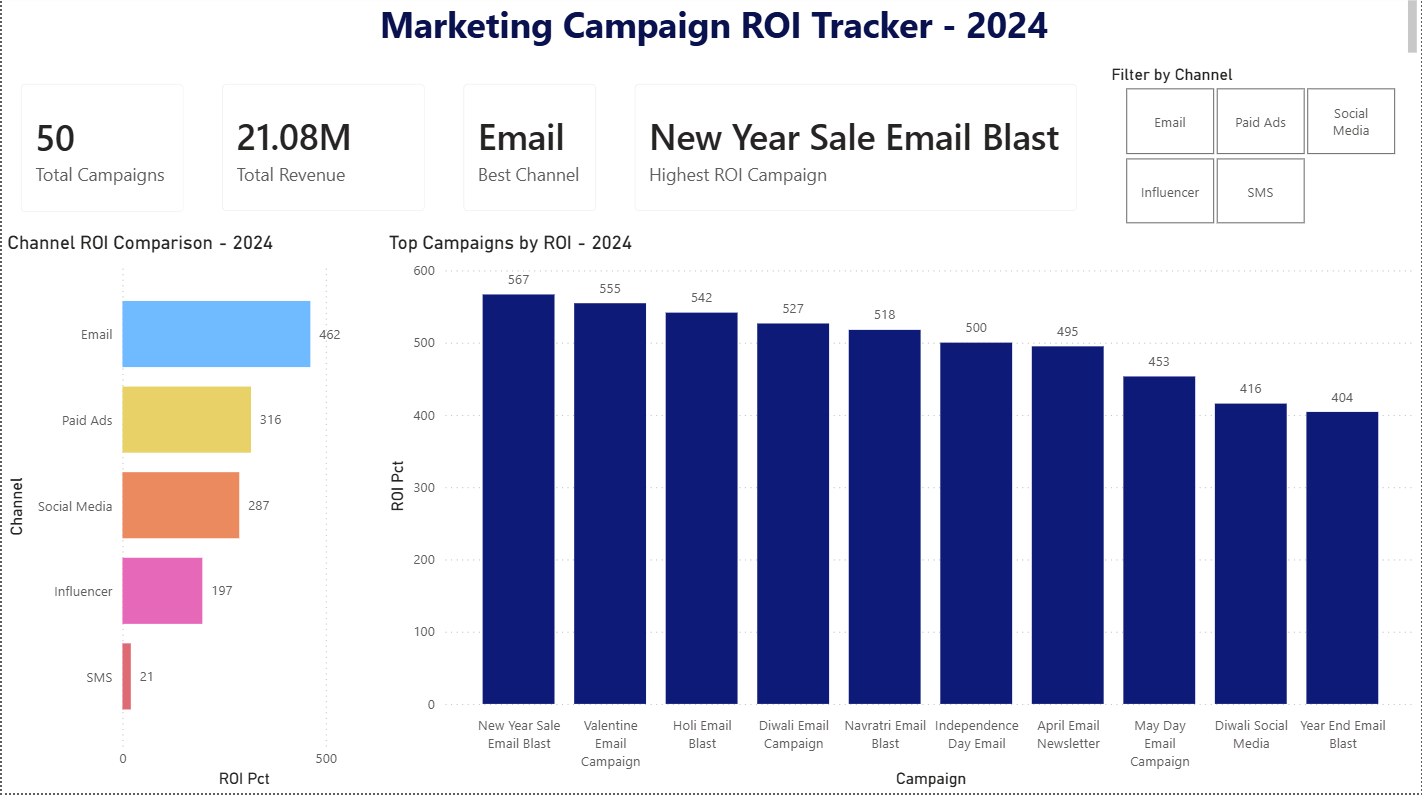

The page's visual inventory and layout, read from the dashboard file:
{"tool":"powerbi","page":{"name":"Campaign Overview","canvas":[1280,720],"ordinal":0},"visuals":[{"type":"textbox","box":[9.6,0,1270.7,63.1],"z":0},{"type":"cardVisual","fields":{"Data":["CountNonNull(Campaign_Overview.campaign_id)"]},"box":[0,62.8,181.5,150.1],"z":1000},{"type":"cardVisual","fields":{"Data":["Sum(Channel_Spend.Total_revenue)"]},"box":[181.5,63.1,217.5,149.9],"z":2000},{"type":"cardVisual","fields":{"Data":["Min(Channel_ROI.channel_name)"]},"box":[399,63.1,154.4,149.9],"z":3000},{"type":"cardVisual","fields":{"Data":["Min(Campaign_ROI.campaign_name)"]},"box":[553.4,63.1,433.9,149.9],"z":4000},{"type":"clusteredBarChart","title":"Channel ROI Comparison - 2024","fields":{"Category":["Channel_ROI.channel_name"],"Y":["Sum(Channel_ROI.Overall_ROI_Pct)"]},"box":[0,213,343.8,507.2],"z":5000},{"type":"clusteredColumnChart","title":"Top Campaigns by ROI - 2024","fields":{"Category":["Campaign_ROI.campaign_name"],"Y":["Sum(Campaign_ROI.ROI_Pct)"]},"box":[343.8,213,936.6,507.2],"z":6000},{"type":"slicer","fields":{"Values":["Channel_ROI.channel_name"]},"box":[987.4,58.6,293.1,154.4],"z":7000}]}

Visuals, with their boxes in screenshot pixels (x1, y1, x2, y2), scaled from the page's 1280x720 canvas onto the 1422x797 screenshot:
textbox: [x1=11, y1=0, x2=1421, y2=70]
cardVisual - CountNonNull(Campaign_Overview.campaign_id): [x1=0, y1=70, x2=202, y2=236]
cardVisual - Sum(Channel_Spend.Total_revenue): [x1=202, y1=70, x2=443, y2=236]
cardVisual - Min(Channel_ROI.channel_name): [x1=443, y1=70, x2=615, y2=236]
cardVisual - Min(Campaign_ROI.campaign_name): [x1=615, y1=70, x2=1097, y2=236]
"Channel ROI Comparison - 2024" clusteredBarChart: [x1=0, y1=236, x2=382, y2=796]
"Top Campaigns by ROI - 2024" clusteredColumnChart: [x1=382, y1=236, x2=1421, y2=796]
slicer - Channel_ROI.channel_name: [x1=1097, y1=65, x2=1421, y2=236]
